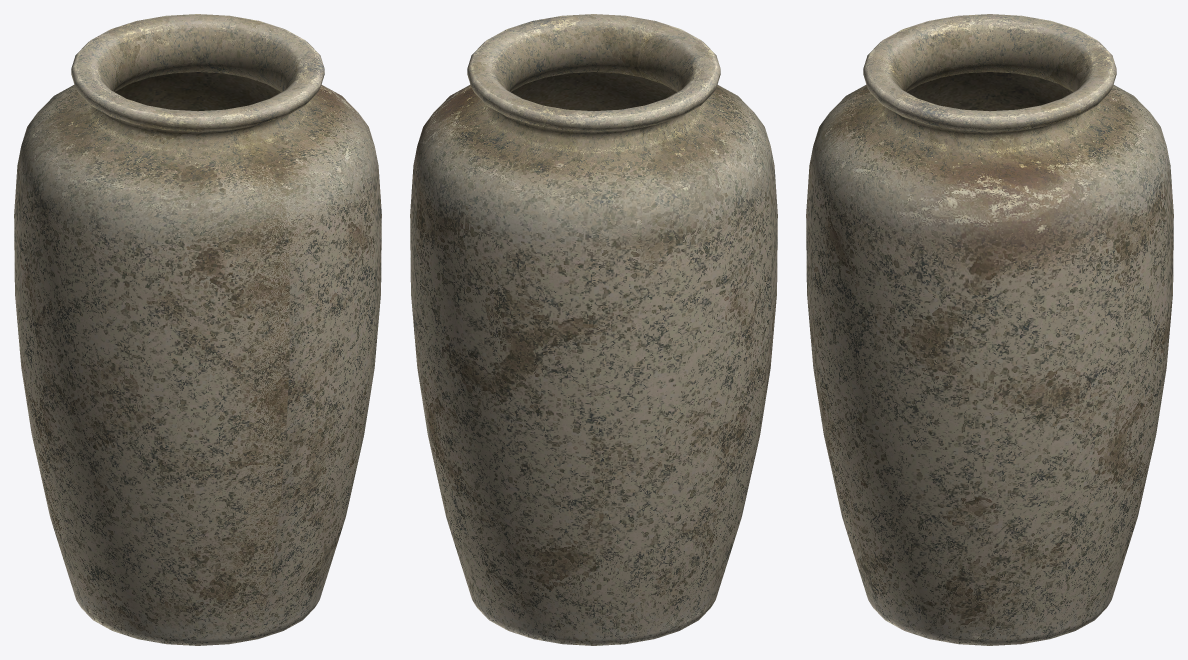
The model's file is pottery_basic_medium.dae.
3 renders of one model, left to right at view 1: azimuth 30°, elevation 25°; view 2: azimuth 150°, elevation 25°; view 3: azimuth 270°, elevation 25°, orthographic.
Visible parts, largest first — view 1: pottery; view 2: pottery; view 3: pottery.
Part boxes in pixels (bbox=[...]): pottery: bbox=[14, 14, 381, 645]; pottery: bbox=[410, 14, 777, 645]; pottery: bbox=[806, 14, 1173, 645].
Bounding box in the file's own units: 87.63 × 140 × 87.63.
